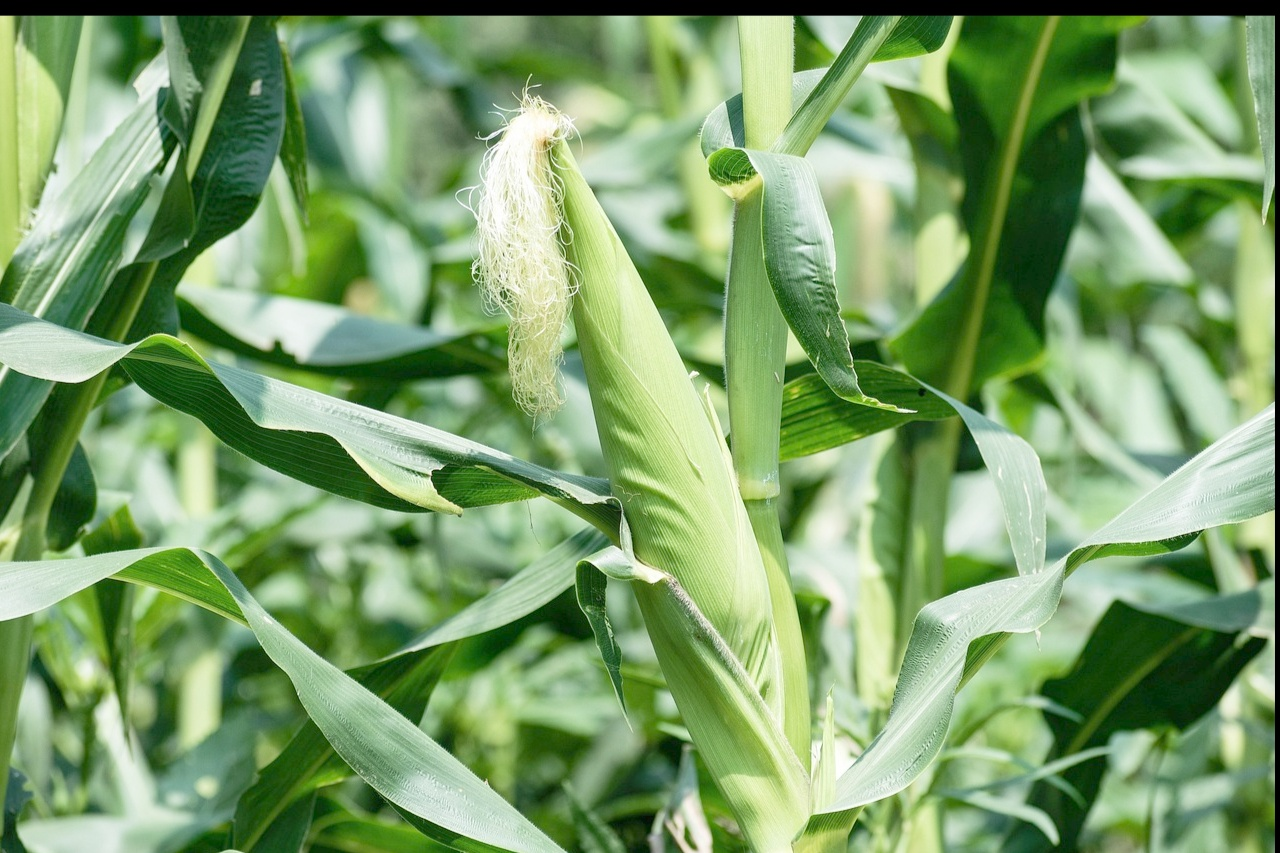corn_plant: (446, 95, 819, 809)
